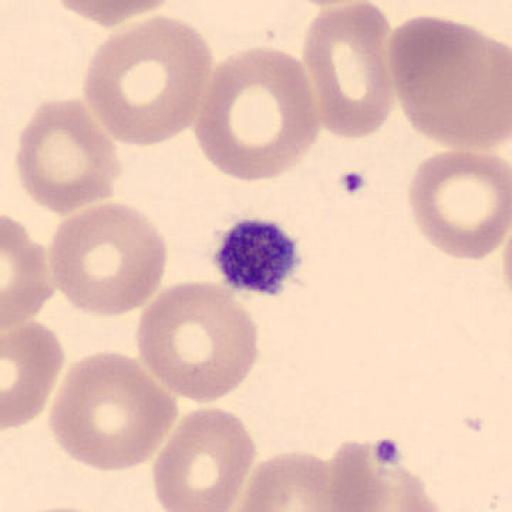Platelet: (210, 215, 306, 297)
RBC: (82, 14, 215, 148), (195, 45, 318, 183), (388, 14, 511, 152), (47, 349, 179, 473), (135, 280, 260, 405), (48, 200, 168, 318), (298, 0, 395, 141), (14, 97, 123, 215), (406, 146, 511, 262), (151, 405, 257, 512), (327, 436, 450, 512), (2, 320, 66, 432), (230, 450, 337, 512), (1, 213, 54, 329), (324, 438, 405, 512), (308, 438, 389, 512), (337, 464, 449, 512), (48, 0, 177, 28), (6, 499, 120, 511), (15, 502, 114, 512)
